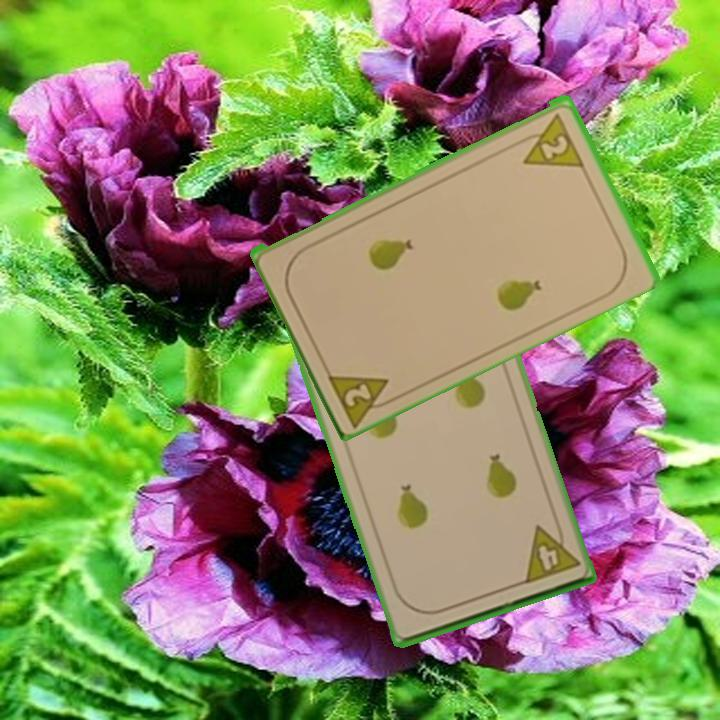2p: (323, 367, 402, 428), (512, 109, 587, 170)
4p: (519, 517, 582, 587)
